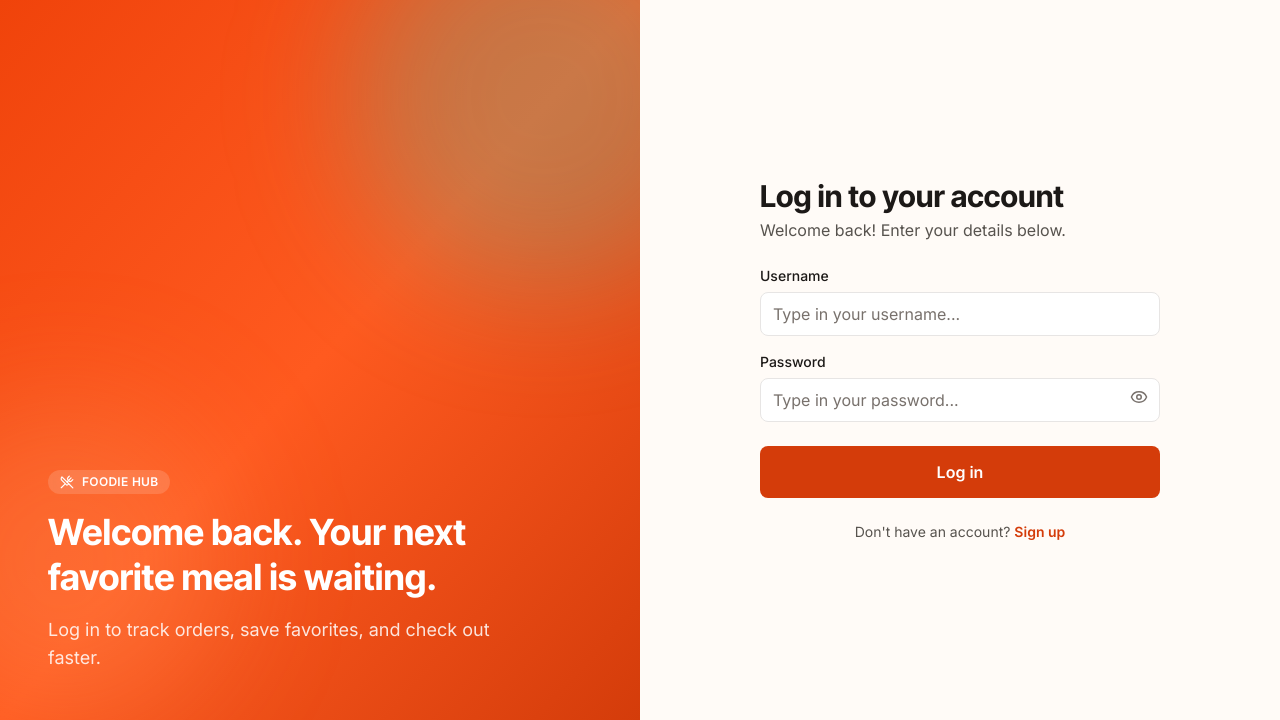
Test: auth components tests › login component › Checking if 404 error works
Step 1. Type "testuser" into the field labelled "Username" → (960, 314), box [760,292,1160,336]
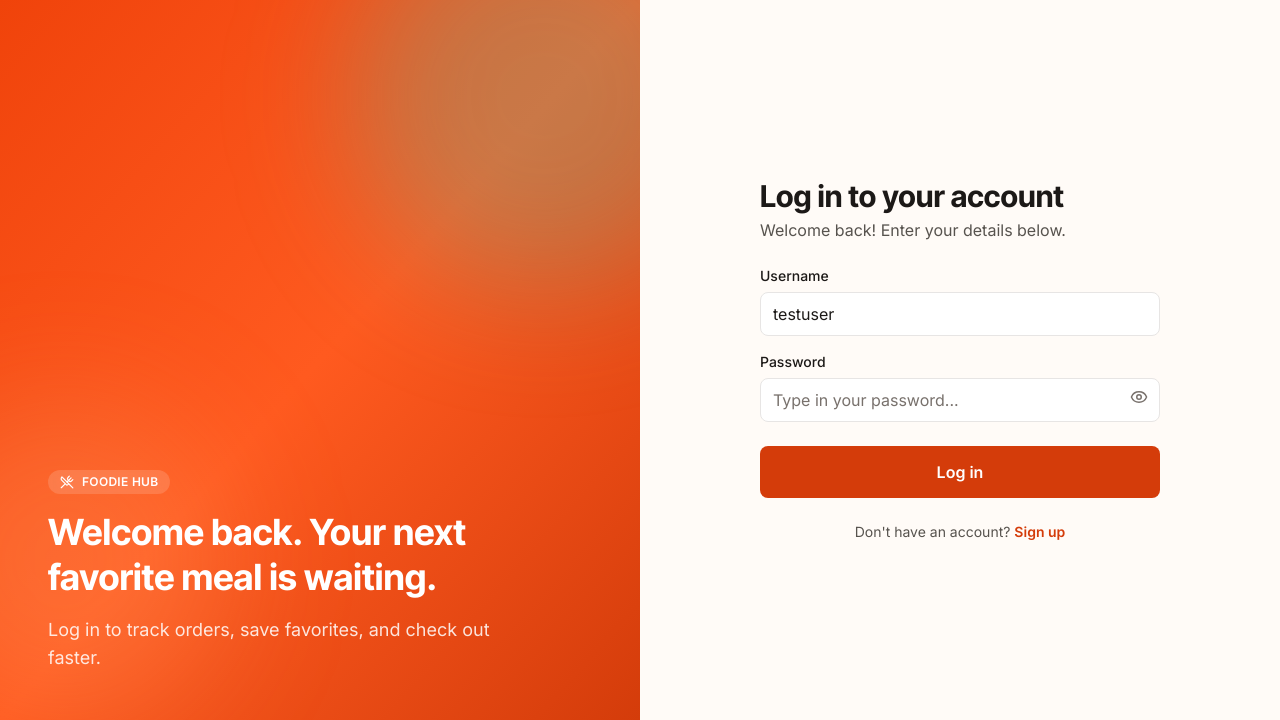
Step 2. Type "123456AS" into the password field labelled "Password" → (960, 400), box [760,378,1160,422]
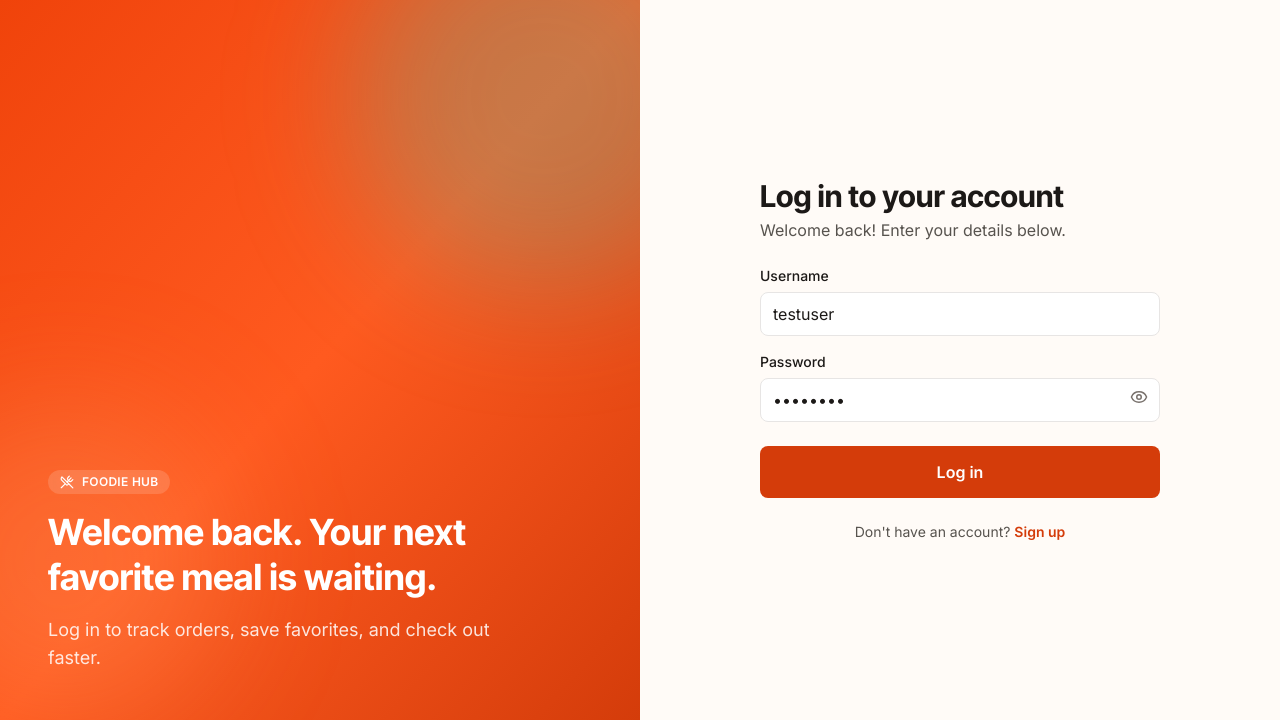
Step 3. Click the button "Log in" → (960, 472), box [760,446,1160,498]
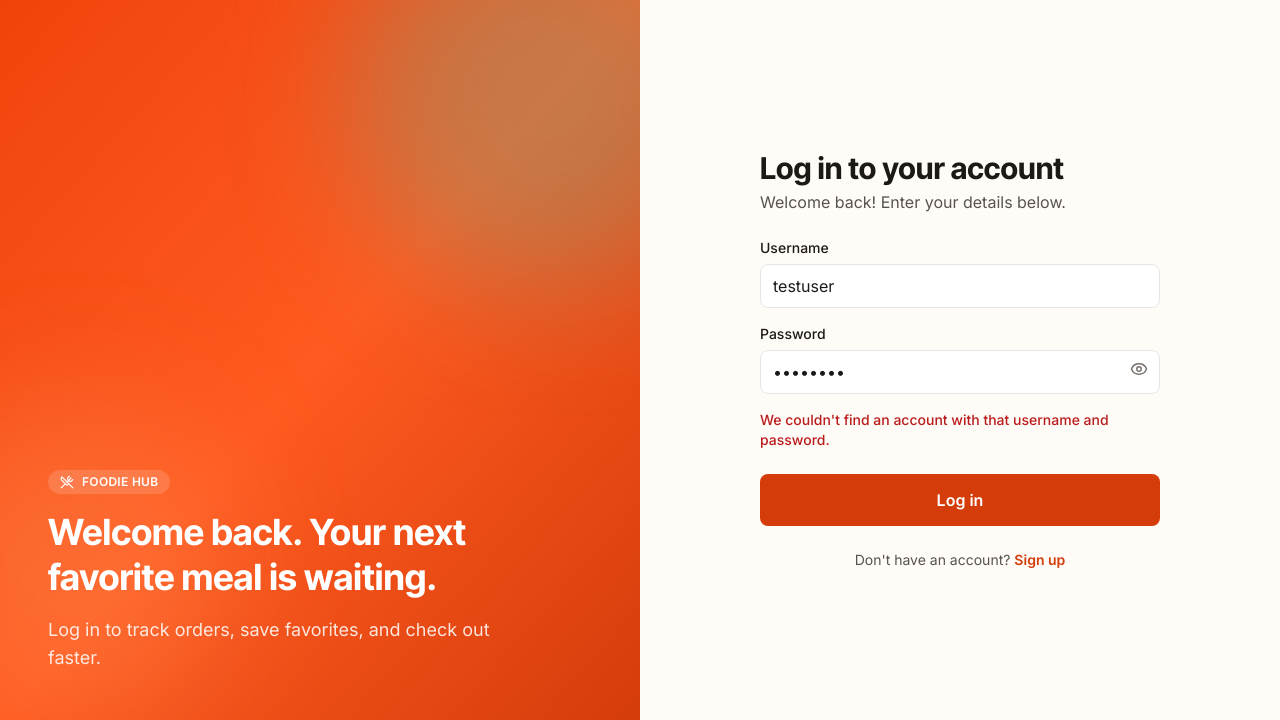
Expected: the text "We couldn't find an account with that username and password." is shown, [760,410,1160,450]
